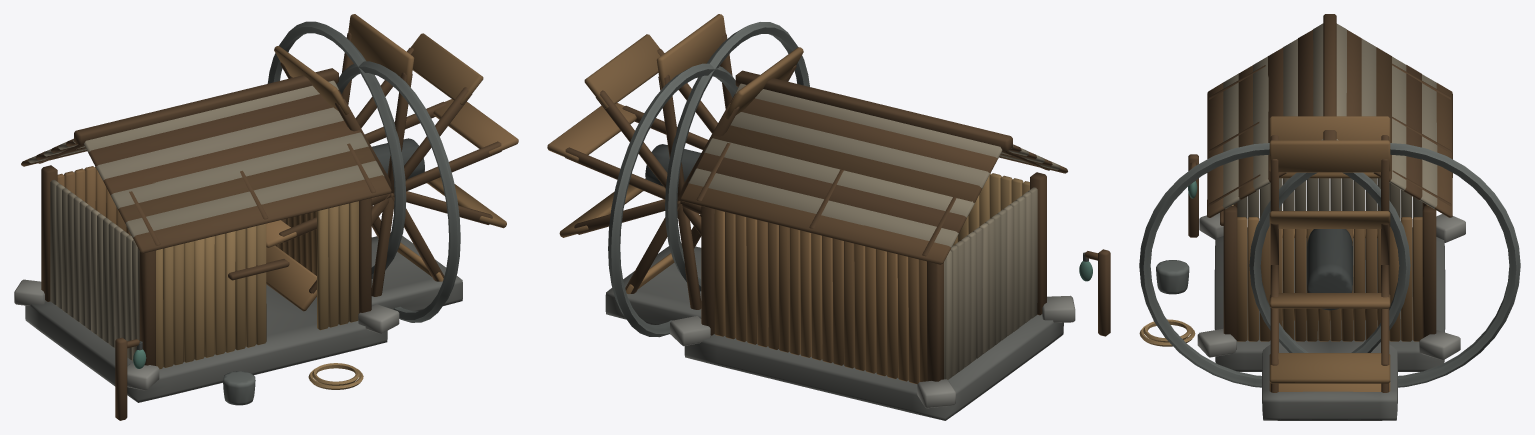
Rendered from sluice_shed_a.glb.
The picture shows the model from 3 angles, left to right: view 1: azimuth 30°, elevation 25°; view 2: azimuth 150°, elevation 25°; view 3: azimuth 270°, elevation 25°; orthographic projection. The views are drawn at different scales.
Visible parts, largest first — view 1: Surface; view 2: Surface; view 3: Surface.
Part boxes in pixels (x1=…): Surface: x1=14, y1=14, x2=518, y2=420; Surface: x1=547, y1=14, x2=1110, y2=420; Surface: x1=1139, y1=14, x2=1520, y2=420.
Size of the model in its own units: 9.82 by 5.65 by 7.28.
